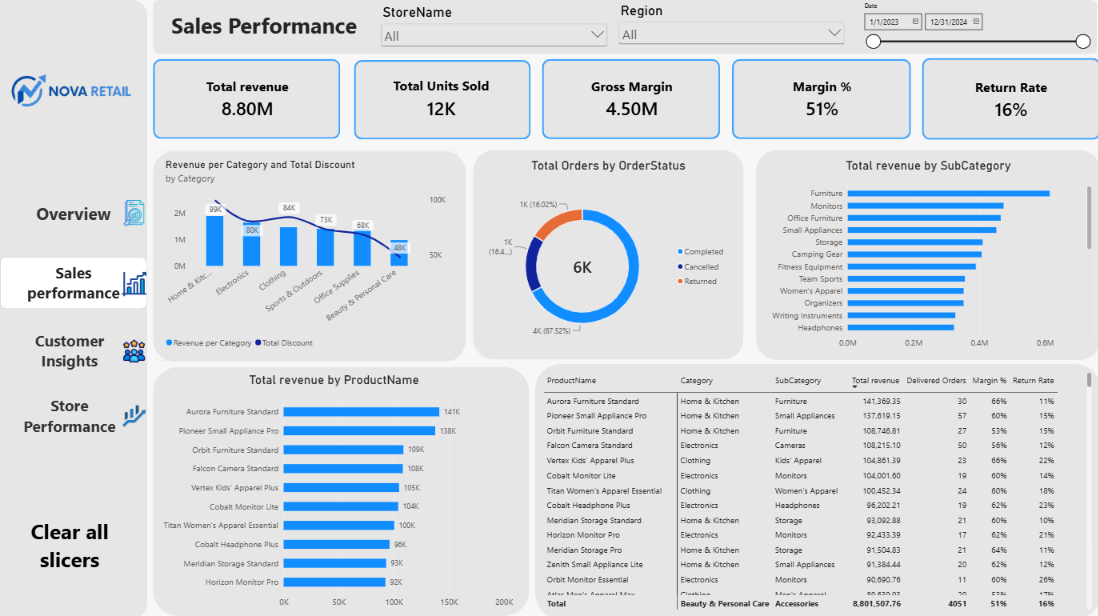

Layout of this report page (visuals, bound fields, positions):
{"tool":"powerbi","page":{"name":"Sales performance","canvas":[1920,1080],"ordinal":1},"visuals":[{"type":"group","id":"g1","title":"Group 3","box":[0,0,256.7,1081],"z":0},{"type":"shape","box":[0,0,204.5,1079],"z":0,"group":"g1"},{"type":"shape","box":[1608.4,101.4,311.5,142.7],"z":0,"group":"g8"},{"type":"shape","box":[266.5,102.9,326.7,139.3],"z":0,"group":"g6"},{"type":"shape","box":[945.8,103.1,310.6,139.6],"z":0,"group":"g7"},{"type":"shape","box":[1277.1,103.1,312.2,139.6],"z":0,"group":"g5"},{"type":"shape","box":[617.8,103.8,308.4,138.6],"z":0,"group":"g9"},{"type":"shape","box":[825.1,262.2,472.1,365.7],"z":0,"group":"g11"},{"type":"shape","box":[1318.6,262.2,601.4,366.3],"z":0,"group":"g3"},{"type":"shape","box":[933,634.2,987.1,445],"z":0,"group":"g2"},{"type":"shape","box":[0,0,256.7,1079],"z":500,"group":"g1"},{"type":"shape","box":[266,263.3,545.5,367.4],"z":500,"group":"g10"},{"type":"shape","box":[267.7,639.8,656.1,434.3],"z":500,"group":"g4"},{"type":"shape","box":[266.5,0,1646.5,94.2],"z":1000},{"type":"cardVisual","fields":{"Data":["_Measures.Totale revenue"]},"box":[268.2,102.9,326.4,139.6],"z":1000,"group":"g6"},{"type":"cardVisual","fields":{"Data":["_Measures.Total Units Sold"]},"box":[614,102.9,311.6,138.5],"z":1000,"group":"g9"},{"type":"cardVisual","fields":{"Data":["_Measures.Gross Margin"]},"box":[947.4,103.1,310.2,139.9],"z":1000,"group":"g7"},{"type":"cardVisual","fields":{"Data":["_Measures.Margin %"]},"box":[1278.7,103.1,311.9,139.9],"z":1000,"group":"g5"},{"type":"cardVisual","fields":{"Data":["_Measures.Return Rate"]},"box":[1607.8,103.4,311.2,143.4],"z":1000,"group":"g8"},{"type":"clusteredBarChart","fields":{"Category":["Products.SubCategory"],"Y":["_Measures.Total revenue"]},"box":[1318.6,262.2,601.4,366.3],"z":1000,"group":"g3"},{"type":"donutChart","fields":{"Category":["Sales.OrderStatus"],"Y":["_Measures.Total Orders"]},"box":[836.1,262.8,451.8,366.7],"z":1000,"group":"g11"},{"type":"pivotTable","fields":{"Rows":["Products.ProductName"],"Values":["Min(Products.Category)","Min(Products.SubCategory)","_Measures.Total revenue","_Measures.Delivered Orders","_Measures.Margin %","_Measures.Return Rate"]},"box":[933,634.2,987.1,445],"z":1000,"group":"g2"},{"type":"clusteredBarChart","fields":{"Category":["Products.ProductName"],"Y":["_Measures.Total revenue"]},"box":[255.2,634.7,656.2,445],"z":1000,"group":"g4"},{"type":"actionButton","box":[0,327.7,256.7,89.7],"z":3000},{"type":"actionButton","box":[0,448.7,256.4,90.7],"z":4000},{"type":"actionButton","box":[0,566.9,242.6,90.7],"z":5000},{"type":"actionButton","box":[0,680.2,242.6,90.7],"z":6000},{"type":"textbox","box":[272.1,19.2,376.7,62.8],"z":7000},{"type":"image","box":[211,702.9,45.3,45.3],"z":8000},{"type":"image","box":[204.1,348.8,59.3,45.3],"z":9000},{"type":"image","box":[211,589.5,45.3,45.3],"z":10000},{"type":"image","box":[211,472.7,45.3,45.3],"z":11000},{"type":"group","id":"g2","title":"Group 4","box":[933,634.2,987,445.3],"z":12000},{"type":"group","id":"g3","title":"Group 4","box":[1318.6,262.2,601.4,366.3],"z":13000},{"type":"lineStackedColumnComboChart","fields":{"Category":["Products.Category"],"Y":["_Measures.Revenue per Category"],"Y2":["_Measures.Total Discount"]},"box":[271.7,262.2,525.2,367.3],"z":14000,"group":"g10"},{"type":"group","id":"g4","title":"Group 5","box":[255.2,634.7,668.6,445],"z":14000},{"type":"group","id":"g5","title":"Group 1","box":[1277.1,103.1,312.2,139.5],"z":15000},{"type":"group","id":"g6","title":"Group 1","box":[266.5,102.9,327.9,139.5],"z":16000},{"type":"group","id":"g7","title":"Group 1","box":[945.8,103.1,312.2,139.5],"z":17000},{"type":"group","id":"g8","title":"Group 1","box":[1607.8,101.4,312.2,144.8],"z":18000},{"type":"group","id":"g9","title":"Group 1","box":[614,102.9,312.2,139.5],"z":19000},{"type":"group","id":"g10","title":"Group 2","box":[266,262.2,545.5,366.3],"z":20000},{"type":"group","id":"g11","title":"Group 2","box":[825.1,262.2,472.3,366.3],"z":21000},{"type":"slicer","fields":{"Values":["Calendar.Date"]},"box":[1500.3,3.6,405.3,93.7],"z":22000},{"type":"slicer","fields":{"Values":["Stores.Region"]},"box":[1075.3,3.6,403.5,93.7],"z":23000},{"type":"slicer","fields":{"Values":["Stores.StoreName"]},"box":[659.2,7.2,405.3,86.5],"z":24000},{"type":"actionButton","box":[4.5,874.2,232.7,153.6],"z":25000},{"type":"image","box":[0,46.8,248.6,221.5],"z":25001}]}

Visuals, with their boxes on the page's 1920x1080 design canvas (x1, y1, x2, y2). These are canvas units, not pixel positions in the 1098x616 screenshot, which may show the page scaled, cropped or inside an application window:
"Group 3" group: locate(0, 0, 257, 1081)
shape: locate(0, 0, 204, 1079)
shape: locate(1608, 101, 1920, 244)
shape: locate(266, 103, 593, 242)
shape: locate(946, 103, 1256, 243)
shape: locate(1277, 103, 1589, 243)
shape: locate(618, 104, 926, 242)
shape: locate(825, 262, 1297, 628)
shape: locate(1319, 262, 1920, 628)
shape: locate(933, 634, 1920, 1079)
shape: locate(0, 0, 257, 1079)
shape: locate(266, 263, 812, 631)
shape: locate(268, 640, 924, 1074)
shape: locate(266, 0, 1913, 94)
cardVisual - _Measures.Totale revenue: locate(268, 103, 595, 242)
cardVisual - _Measures.Total Units Sold: locate(614, 103, 926, 241)
cardVisual - _Measures.Gross Margin: locate(947, 103, 1258, 243)
cardVisual - _Measures.Margin %: locate(1279, 103, 1591, 243)
cardVisual - _Measures.Return Rate: locate(1608, 103, 1919, 247)
clusteredBarChart - Products.SubCategory x _Measures.Total revenue: locate(1319, 262, 1920, 628)
donutChart - Sales.OrderStatus x _Measures.Total Orders: locate(836, 263, 1288, 630)
pivotTable - Products.ProductName x Min(Products.Category): locate(933, 634, 1920, 1079)
clusteredBarChart - Products.ProductName x _Measures.Total revenue: locate(255, 635, 911, 1080)
actionButton: locate(0, 328, 257, 417)
actionButton: locate(0, 449, 256, 539)
actionButton: locate(0, 567, 243, 658)
actionButton: locate(0, 680, 243, 771)
textbox: locate(272, 19, 649, 82)
image: locate(211, 703, 256, 748)
image: locate(204, 349, 263, 394)
image: locate(211, 590, 256, 635)
image: locate(211, 473, 256, 518)
"Group 4" group: locate(933, 634, 1920, 1080)
"Group 4" group: locate(1319, 262, 1920, 628)
lineStackedColumnComboChart - Products.Category x _Measures.Revenue per Category: locate(272, 262, 797, 630)
"Group 5" group: locate(255, 635, 924, 1080)
"Group 1" group: locate(1277, 103, 1589, 243)
"Group 1" group: locate(266, 103, 594, 242)
"Group 1" group: locate(946, 103, 1258, 243)
"Group 1" group: locate(1608, 101, 1920, 246)
"Group 1" group: locate(614, 103, 926, 242)
"Group 2" group: locate(266, 262, 812, 628)
"Group 2" group: locate(825, 262, 1297, 628)
slicer - Calendar.Date: locate(1500, 4, 1906, 97)
slicer - Stores.Region: locate(1075, 4, 1479, 97)
slicer - Stores.StoreName: locate(659, 7, 1064, 94)
actionButton: locate(4, 874, 237, 1028)
image: locate(0, 47, 249, 268)
